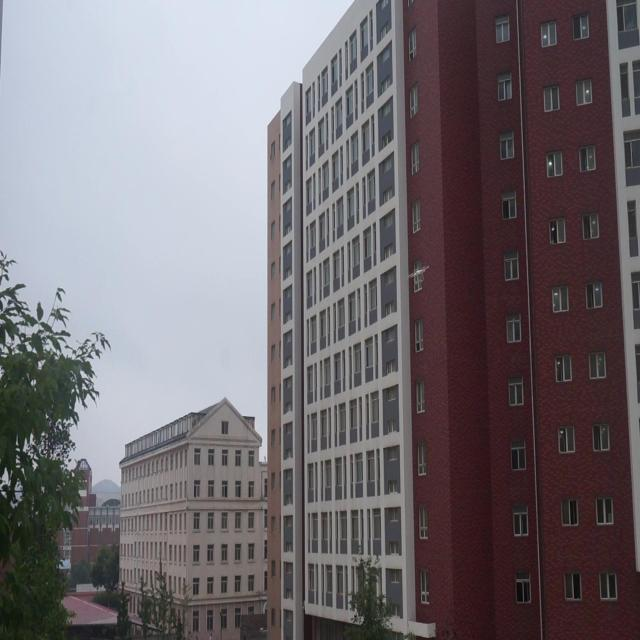drone: (405, 263, 431, 293)
